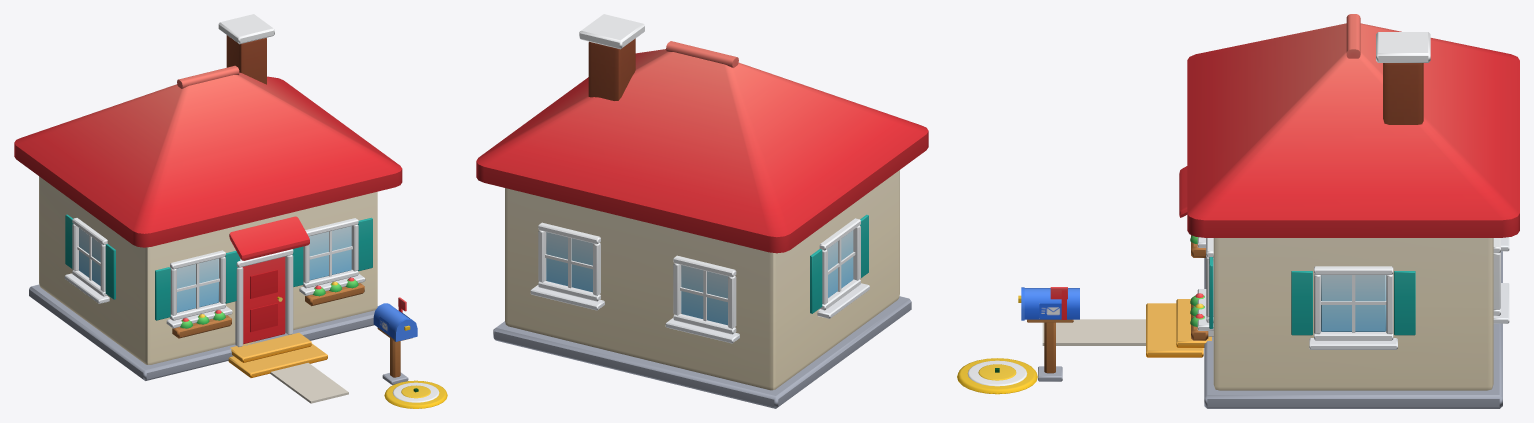
File: house_cottage.glb
3 views of the same model, side by side, from view 1: azimuth 30°, elevation 25°; view 2: azimuth 150°, elevation 25°; view 3: azimuth 270°, elevation 25° (orthographic). The views are drawn at different scales.
Parts seen in each view (by area): view 1: house_cottage; view 2: house_cottage; view 3: house_cottage.
Part boxes in pixels (x1=…): house_cottage: x1=14, y1=14, x2=447, y2=408; house_cottage: x1=476, y1=14, x2=928, y2=408; house_cottage: x1=957, y1=14, x2=1519, y2=408.
Bounding box in the file's own units: 25.4 × 23.28 × 36.2.
1 material, 1 textured.
